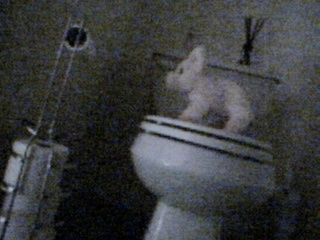piggy: (166, 45, 257, 135)
